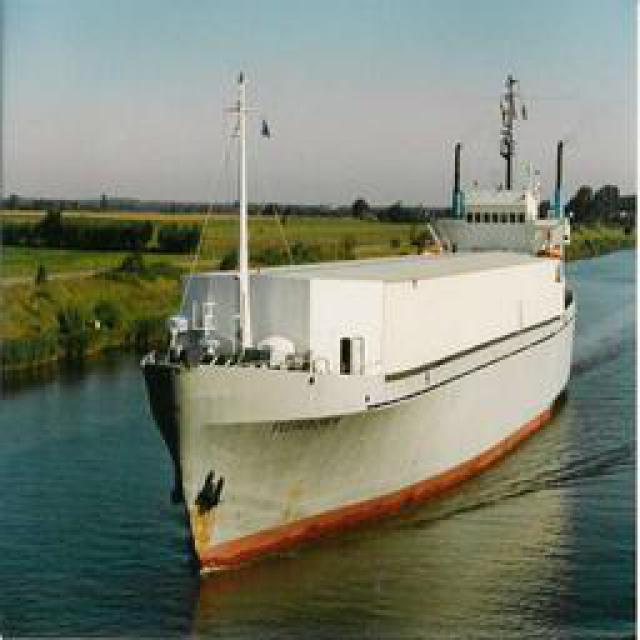Ship: (144, 205, 579, 588)
